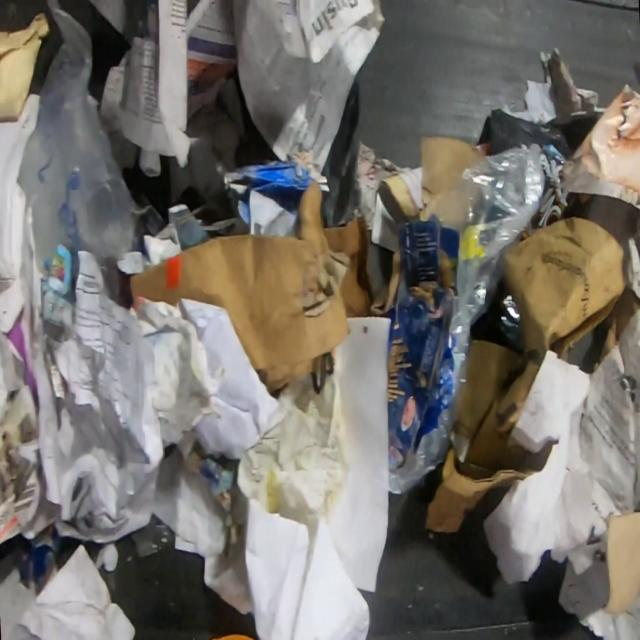cardboard: (122, 172, 352, 401), (425, 339, 553, 533), (387, 214, 460, 477), (502, 217, 632, 363), (210, 150, 332, 233), (417, 135, 493, 220), (321, 215, 374, 318), (600, 508, 640, 617), (12, 521, 62, 581)
soft_plastic: (387, 144, 544, 495), (16, 0, 141, 305), (490, 108, 602, 243)
